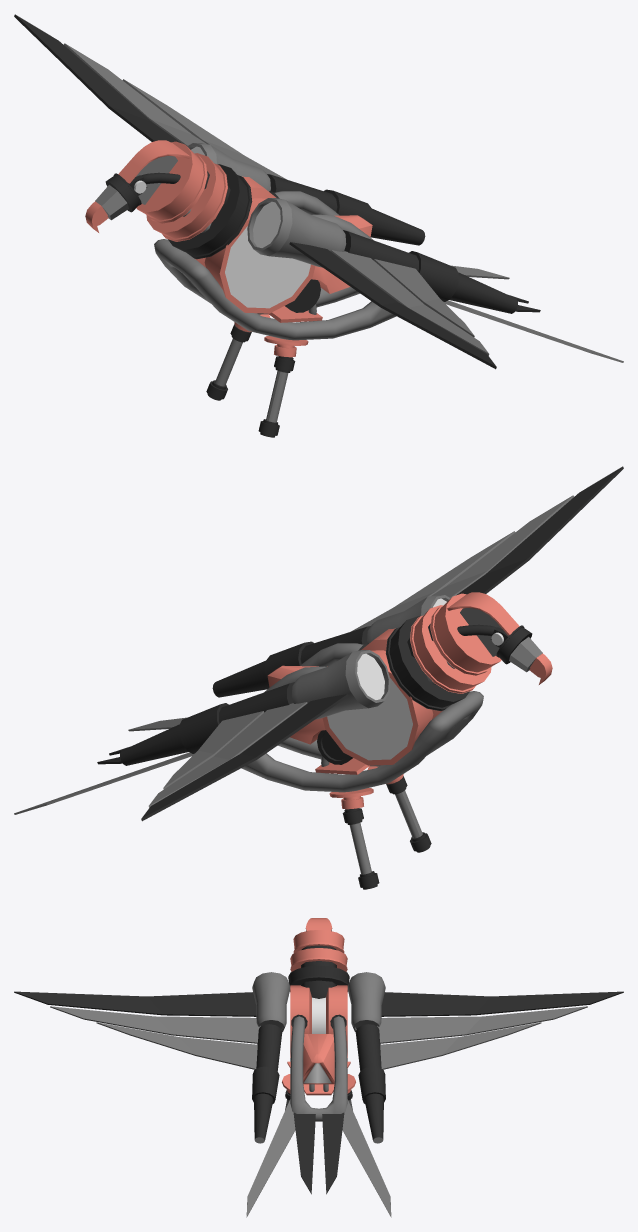
Rendered from HunterModel.fbx.
3 renders of one model, top to bottom at view 1: azimuth 30°, elevation 25°; view 2: azimuth 150°, elevation 25°; view 3: azimuth 270°, elevation 25°, orthographic. The views are drawn at different scales.
Parts seen in each view (by area): view 1: Cube.141, Cylinder.180, Cube.146, Cylinder.167, Cylinder.179, Cube.147, Cube.148, Cylinder.192, Cylinder.194, Cylinder.193, Cube.151, Cylinder.195 (+8 smaller); view 2: Cube.141, Cylinder.180, Cube.146, Cylinder.167, Cylinder.179, Cube.147, Cube.148, Cylinder.192, Cylinder.194, Cylinder.193, Cube.151, Cylinder.195 (+8 smaller); view 3: Cube.146, Cube.147, Cylinder.180, Cube.148, Cylinder.179, Cube.151, Cube.141, Cube.150, Cylinder.167, Cube.143, Cylinder.194, Cylinder.193 (+2 smaller).
Boxes of the visible parts, x1,y1,x2,y2 form: Cube.141: (154,191,396,340); Cylinder.180: (267,174,517,313); Cube.146: (14,14,496,369); Cylinder.167: (195,176,315,313); Cylinder.179: (187,143,346,267); Cube.147: (64,43,489,355); Cube.148: (122,79,474,337); Cylinder.192: (136,141,207,223); Cylinder.194: (168,164,252,259); Cylinder.193: (146,153,227,241); Cube.151: (443,265,623,362); Cylinder.195: (215,338,288,422); Cube.141: (241,643,483,792); Cylinder.180: (120,626,370,765); Cube.146: (141,466,623,821); Cylinder.167: (322,628,442,765); Cylinder.179: (291,595,450,719); Cube.147: (148,495,573,807); Cube.148: (163,531,515,789); Cylinder.192: (430,593,501,675); Cylinder.194: (385,616,469,711); Cylinder.193: (410,605,491,693); Cube.151: (14,717,194,814); Cylinder.195: (349,790,422,874); Cube.146: (14,991,623,1016); Cube.147: (50,1006,587,1043); Cylinder.180: (252,1024,385,1143); Cube.148: (96,1022,541,1069); Cylinder.179: (252,972,385,1031); Cube.151: (246,1099,391,1217); Cube.141: (290,1016,347,1121); Cube.150: (293,1112,344,1194); Cylinder.167: (290,985,347,1057); Cube.143: (303,1034,334,1084); Cylinder.194: (288,965,349,991); Cylinder.193: (290,948,347,971).
Size of the model in its own units: 421 by 244 by 735.
